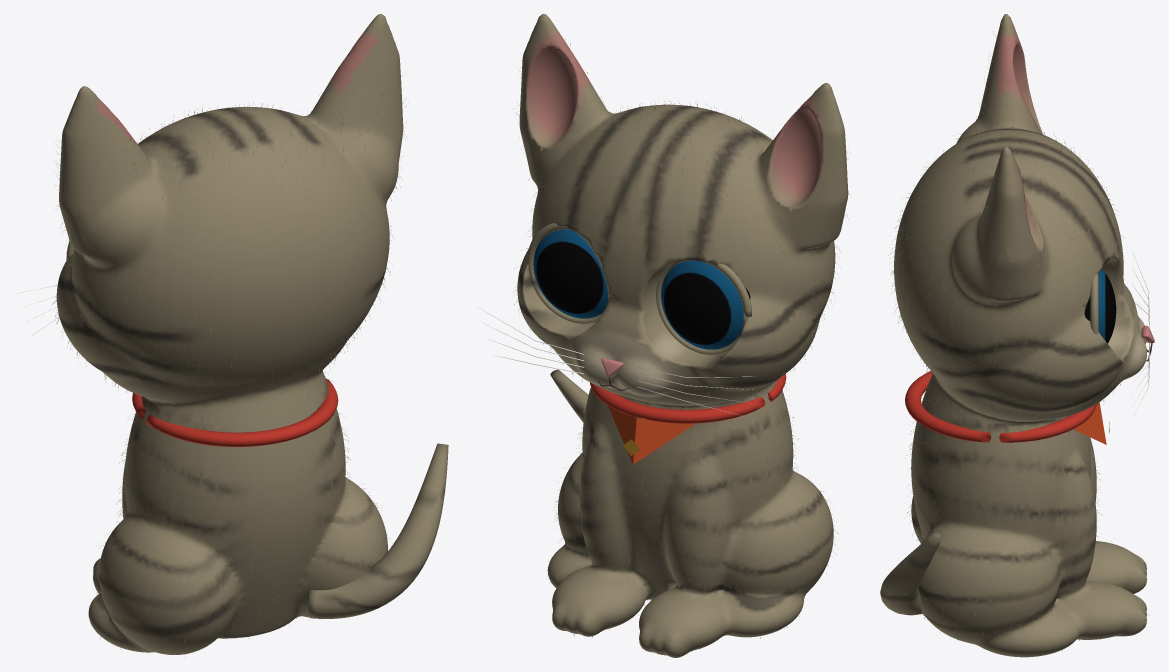
File: munchkin_driver.glb
3 renders of one model, left to right at view 1: azimuth 30°, elevation 25°; view 2: azimuth 150°, elevation 25°; view 3: azimuth 270°, elevation 25°, orthographic. The views are drawn at different scales.
Visible parts, largest first — view 1: Continuous feline anatomy, Curled tail, Red collar, Groomed short fur; view 2: Continuous feline anatomy, Curved inset eye.001, Curved inset eye, Red collar, Folded bandana, Soft anatomical eyelid.001, Groomed short fur, Soft anatomical eyelid, Curled tail; view 3: Continuous feline anatomy, Red collar, Curled tail, Groomed short fur, Curved inset eye, Folded bandana, Soft anatomical eyelid.
Boxes of the visible parts, left/top/right/bottom form: Continuous feline anatomy: left=56, top=14, right=403, bottom=654; Curled tail: left=308, top=443, right=448, bottom=618; Red collar: left=132, top=378, right=338, bottom=446; Groomed short fur: left=52, top=48, right=406, bottom=654; Continuous feline anatomy: left=517, top=14, right=848, bottom=657; Curved inset eye.001: left=661, top=260, right=750, bottom=349; Curved inset eye: left=533, top=229, right=608, bottom=318; Red collar: left=590, top=374, right=786, bottom=423; Folded bandana: left=608, top=405, right=695, bottom=464; Soft anatomical eyelid.001: left=656, top=260, right=751, bottom=354; Groomed short fur: left=513, top=39, right=848, bottom=654; Soft anatomical eyelid: left=526, top=223, right=601, bottom=323; Curled tail: left=550, top=369, right=588, bottom=422; Continuous feline anatomy: left=894, top=14, right=1146, bottom=657; Red collar: left=905, top=371, right=1096, bottom=442; Curled tail: left=880, top=531, right=942, bottom=615; Groomed short fur: left=890, top=34, right=1149, bottom=653; Curved inset eye: left=1084, top=269, right=1116, bottom=343; Folded bandana: left=1073, top=402, right=1106, bottom=444; Soft anatomical eyelid: left=1090, top=273, right=1098, bottom=334.
Size of the model in its own units: 0.9758 by 1.54 by 0.7154.
Materials: 9 (2 with a texture image).
